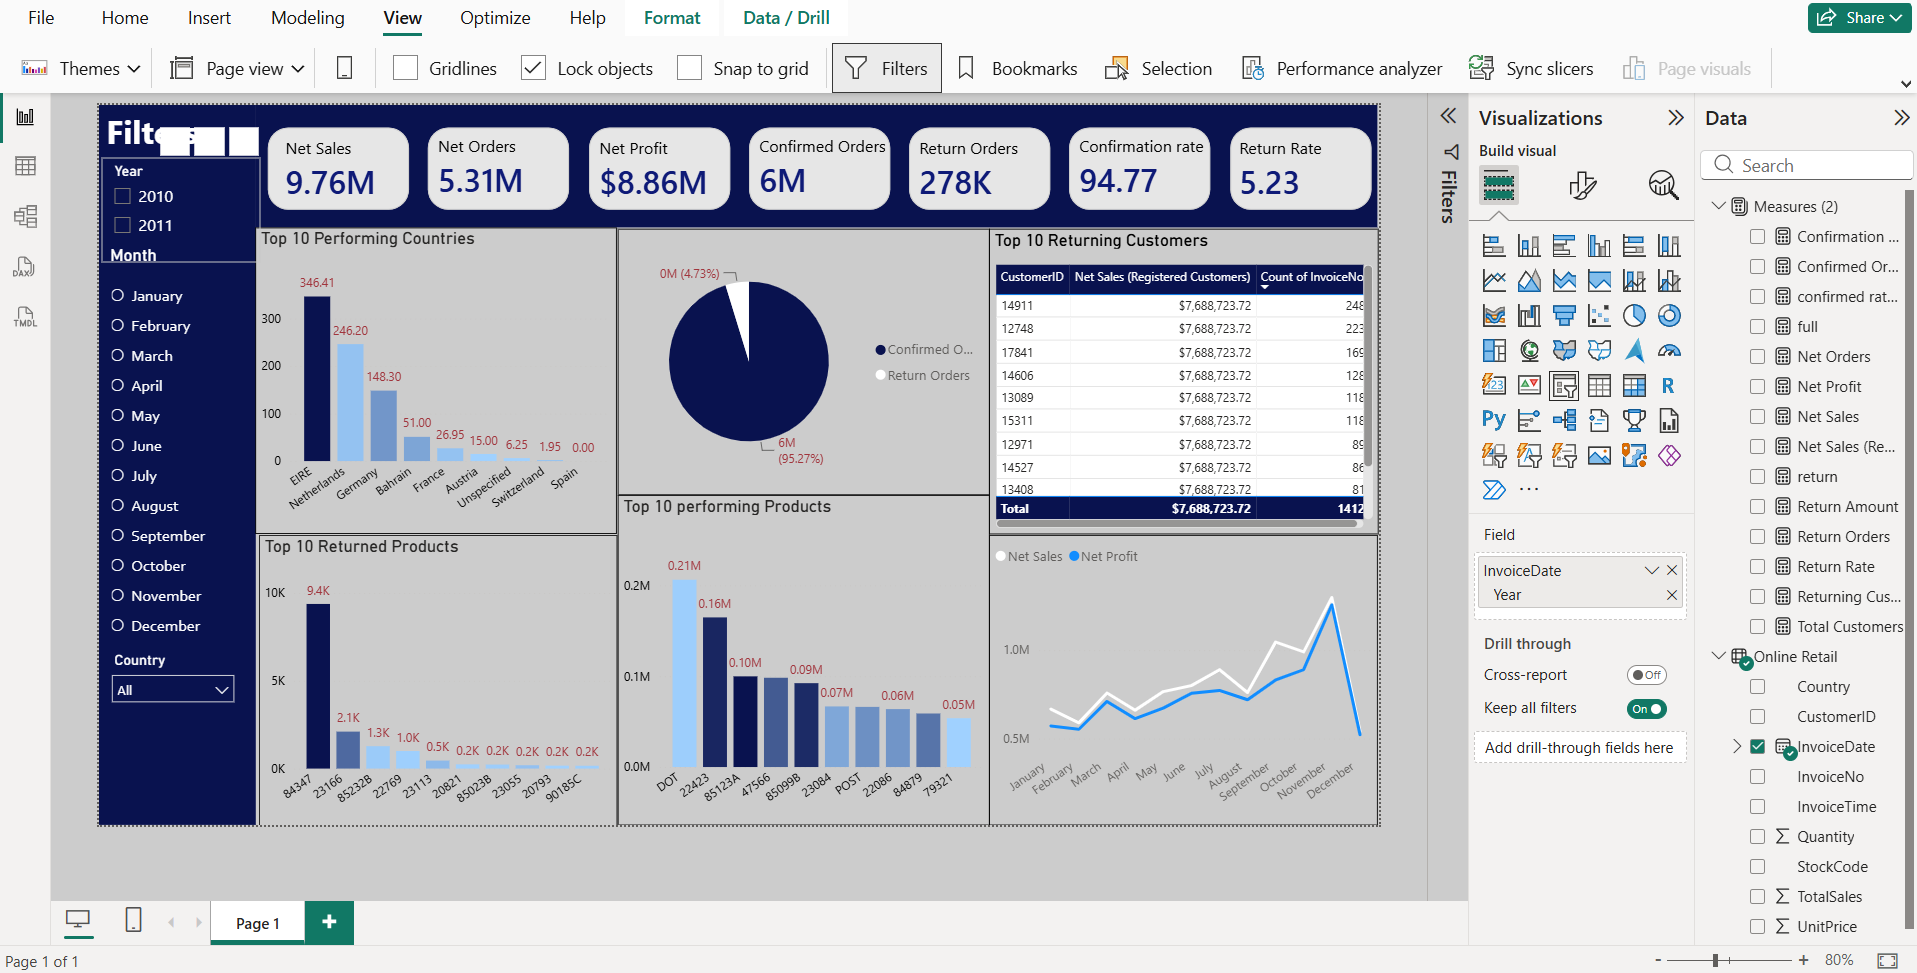

The page's visual inventory and layout, read from the dashboard file:
{"tool":"powerbi","page":{"name":"Page 1","canvas":[1280,720],"ordinal":0},"visuals":[{"type":"shape","box":[0,0,156.8,719.9],"z":0},{"type":"shape","box":[156.8,0,1122.1,122.7],"z":1000},{"type":"barChart","fields":{"Category":["Online Retail.CustomerID"]},"box":[158.6,471.5,541.3,249.5],"z":2000},{"type":"slicer","fields":{"Values":["Online Retail.Country"]},"box":[2.3,540.7,143,179.1],"z":3000},{"type":"slicer","fields":{"Values":["Online Retail.InvoiceDate.Variation.Date Hierarchy.Year"]},"box":[2.8,52.4,157.8,105.7],"z":4000},{"type":"lineChart","title":"Net Sales and Net Profit Trend","fields":{"Category":["Online Retail.InvoiceDate.Variation.Date Hierarchy.Year","Online Retail.InvoiceDate.Variation.Date Hierarchy.Quarter","Online Retail.InvoiceDate.Variation.Date Hierarchy.Month","Online Retail.InvoiceDate.Variation.Date Hierarchy.Day"],"Y":["Measures (2).Net Sales","Measures (2).Net Profit"]},"box":[890.3,429.5,388.6,290.4],"z":5000},{"type":"shape","box":[168.8,23.1,141.3,82.3],"z":6000},{"type":"shape","box":[329.1,23.1,141.3,82.3],"z":7000},{"type":"shape","box":[489.5,23.1,141.3,82.3],"z":8000},{"type":"shape","box":[649.9,23.1,141.3,82.3],"z":9000},{"type":"shape","box":[810.2,23.1,141.3,82.3],"z":10000},{"type":"shape","box":[970.6,23.1,141.3,82.3],"z":11000},{"type":"shape","box":[1131,23.1,141.3,82.3],"z":12000},{"type":"cardVisual","fields":{"Data":["Measures (2).Net Sales"]},"box":[157.8,12,227.8,104.3],"z":13000},{"type":"cardVisual","fields":{"Data":["Measures (2).Net Orders"]},"box":[310.1,9.6,227.8,104.3],"z":14000},{"type":"cardVisual","fields":{"Data":["Measures (2).Confirmed Orders"]},"box":[631.2,9.6,196.2,104.3],"z":15000},{"type":"cardVisual","fields":{"Data":["Measures (2).Return Orders"]},"box":[791.8,12.3,196.2,104.3],"z":16000},{"type":"cardVisual","fields":{"Data":["Measures (2).Return Rate"]},"box":[1111.5,12,160.5,104.3],"z":17000},{"type":"cardVisual","fields":{"Data":["Measures (2).Net Profit"]},"box":[470.7,12.3,227.8,104.3],"z":18000},{"type":"cardVisual","fields":{"Data":["Measures (2).Confirmation rate"]},"box":[950.9,9.6,196.2,104.3],"z":19000},{"type":"listSlicer","fields":{"Values":["Online Retail.InvoiceDate.Variation.Date Hierarchy.Month"]},"box":[5.8,139.5,132.6,401.2],"z":20000},{"type":"clusteredColumnChart","title":"Top 10 Returned Products","fields":{"Category":["Online Retail.StockCode"],"Y":["Measures (2).Return Rate"]},"box":[159.5,429.5,358.6,291.8],"z":21000},{"type":"columnChart","title":"Top 10 performing Products","fields":{"Category":["Online Retail.StockCode"],"Y":["Measures (2).Net Sales"]},"box":[518.6,389.5,372.1,330.2],"z":22000},{"type":"tableEx","title":"Top 10 Returning Customers","fields":{"Values":["Online Retail.CustomerID","Measures (2).Net Sales (Registered Customers)","Online Retail.InvoiceNo"]},"box":[890.3,124.1,389.9,305.4],"z":23000},{"type":"textbox","box":[2.8,0,140.2,65.1],"z":24000},{"type":"pieChart","fields":{"Y":["Measures (2).Confirmed Orders","Measures (2).Return Orders"]},"box":[518.6,123.3,372.1,266.3],"z":25000},{"type":"clusteredColumnChart","title":"Top 10 Performing Countries","fields":{"Category":["Online Retail.Country"],"Y":["Measures (2).Net Sales"]},"box":[156.8,122.7,361.3,306.8],"z":26000}]}

Visuals, with their boxes on the page's 1280x720 design canvas (x1, y1, x2, y2). These are canvas units, not pixel positions in the 1917x973 screenshot, which may show the page scaled, cropped or inside an application window:
shape: (x1=0, y1=0, x2=157, y2=720)
shape: (x1=157, y1=0, x2=1279, y2=123)
barChart - Online Retail.CustomerID: (x1=159, y1=472, x2=700, y2=721)
slicer - Online Retail.Country: (x1=2, y1=541, x2=145, y2=720)
slicer - Online Retail.InvoiceDate.Variation.Date Hierarchy.Year: (x1=3, y1=52, x2=161, y2=158)
"Net Sales and Net Profit Trend" lineChart: (x1=890, y1=430, x2=1279, y2=720)
shape: (x1=169, y1=23, x2=310, y2=105)
shape: (x1=329, y1=23, x2=470, y2=105)
shape: (x1=490, y1=23, x2=631, y2=105)
shape: (x1=650, y1=23, x2=791, y2=105)
shape: (x1=810, y1=23, x2=952, y2=105)
shape: (x1=971, y1=23, x2=1112, y2=105)
shape: (x1=1131, y1=23, x2=1272, y2=105)
cardVisual - Measures (2).Net Sales: (x1=158, y1=12, x2=386, y2=116)
cardVisual - Measures (2).Net Orders: (x1=310, y1=10, x2=538, y2=114)
cardVisual - Measures (2).Confirmed Orders: (x1=631, y1=10, x2=827, y2=114)
cardVisual - Measures (2).Return Orders: (x1=792, y1=12, x2=988, y2=117)
cardVisual - Measures (2).Return Rate: (x1=1112, y1=12, x2=1272, y2=116)
cardVisual - Measures (2).Net Profit: (x1=471, y1=12, x2=698, y2=117)
cardVisual - Measures (2).Confirmation rate: (x1=951, y1=10, x2=1147, y2=114)
listSlicer - Online Retail.InvoiceDate.Variation.Date Hierarchy.Month: (x1=6, y1=140, x2=138, y2=541)
"Top 10 Returned Products" clusteredColumnChart: (x1=160, y1=430, x2=518, y2=721)
"Top 10 performing Products" columnChart: (x1=519, y1=390, x2=891, y2=720)
"Top 10 Returning Customers" tableEx: (x1=890, y1=124, x2=1280, y2=430)
textbox: (x1=3, y1=0, x2=143, y2=65)
pieChart - Measures (2).Confirmed Orders x Measures (2).Return Orders: (x1=519, y1=123, x2=891, y2=390)
"Top 10 Performing Countries" clusteredColumnChart: (x1=157, y1=123, x2=518, y2=430)
